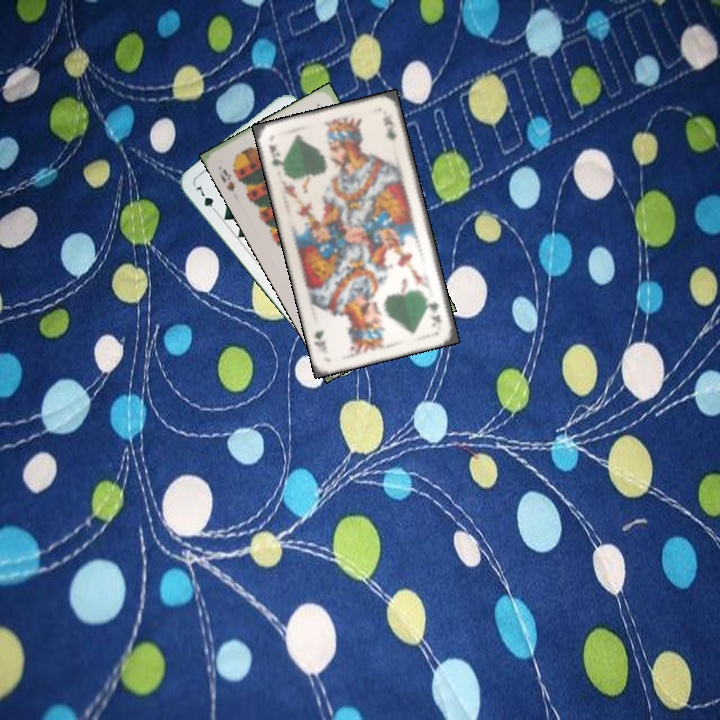G7: (191, 181, 221, 217)
GK: (265, 141, 287, 175), (425, 297, 444, 326)
S8: (218, 165, 237, 194)
